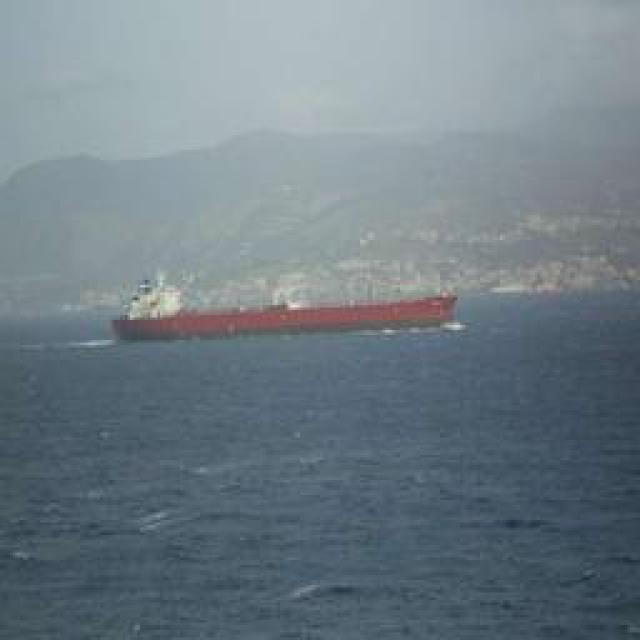Ship: (110, 280, 465, 343)
